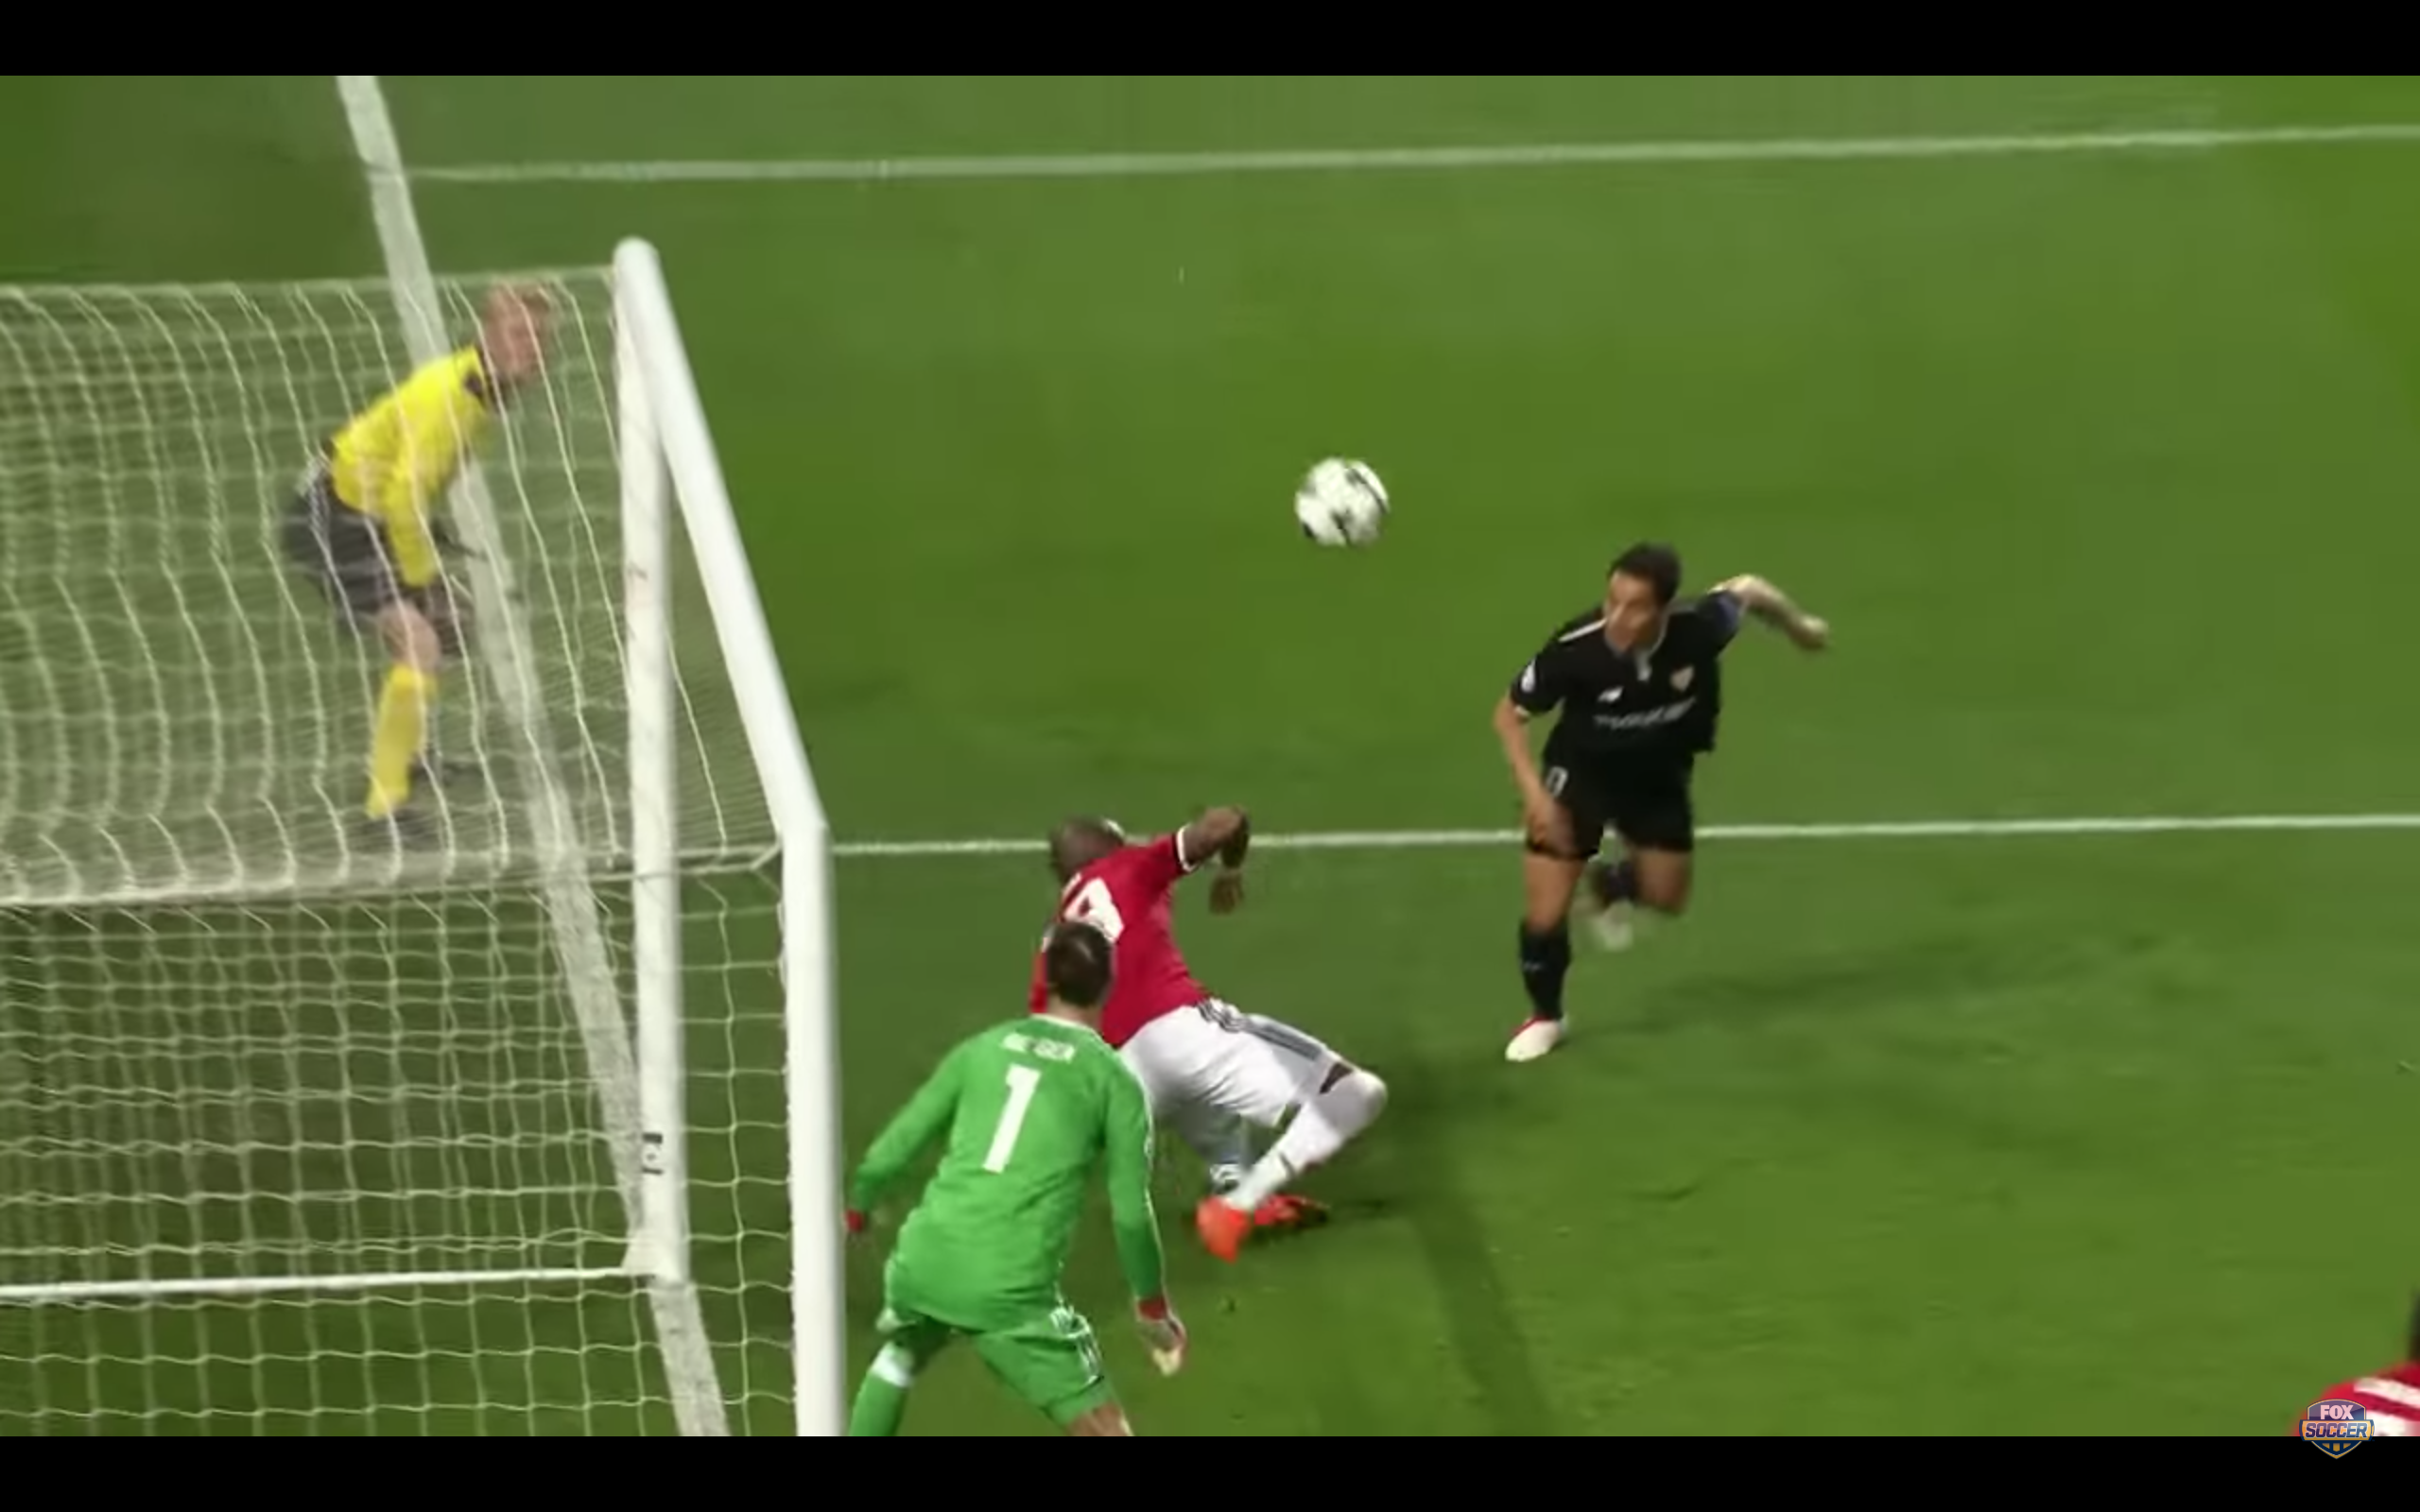referee: (271, 263, 580, 867)
soccer ball: (1273, 433, 1405, 564)
soccer player: (1484, 530, 1838, 1068), (847, 919, 1186, 1438), (1002, 806, 1391, 1258)
